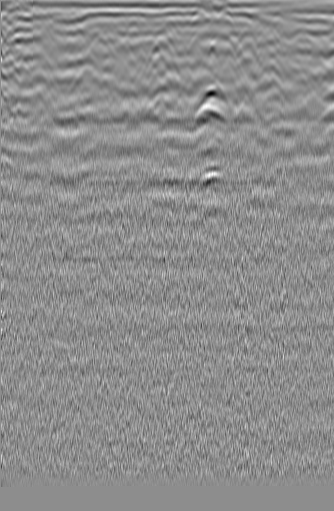가스: (196, 162, 225, 188)
상수: (301, 54, 329, 77)
오수: (9, 28, 50, 54)
우수: (145, 33, 179, 65)
